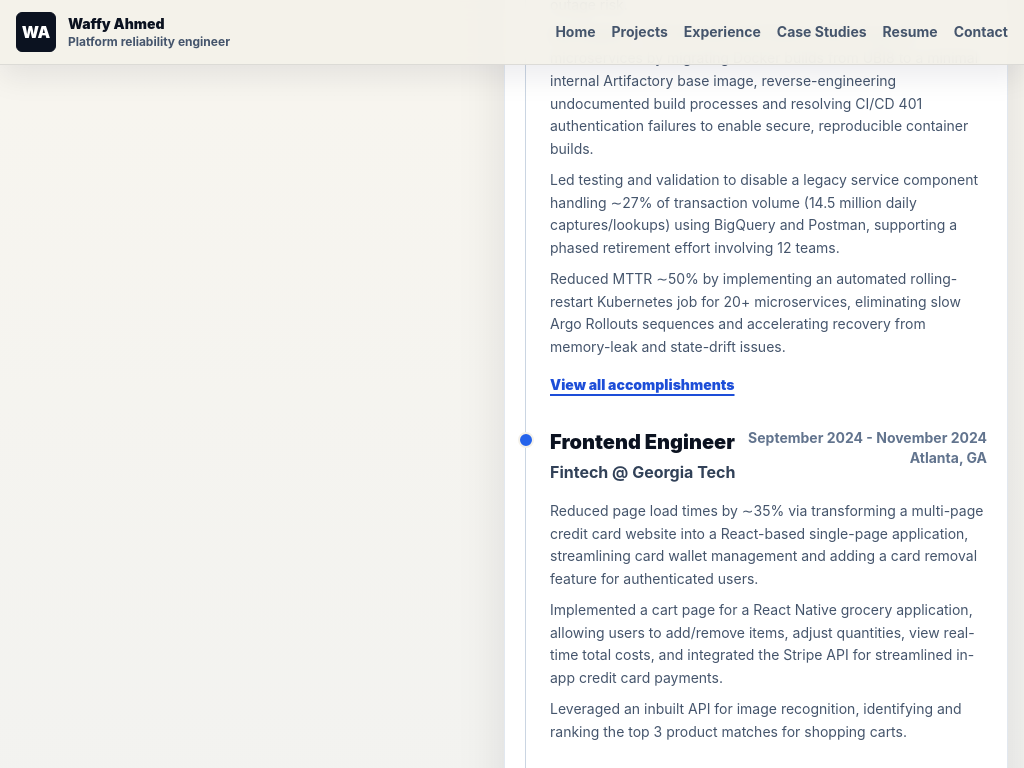
App routes › places Software Engineer I above Fintech and expands its full accomplishments
(page scrolled)
Click the button named "view all accomplishments for software engineer i at the home depot".
click(642, 385)  # box [550,375,734,395]
(page scrolled)
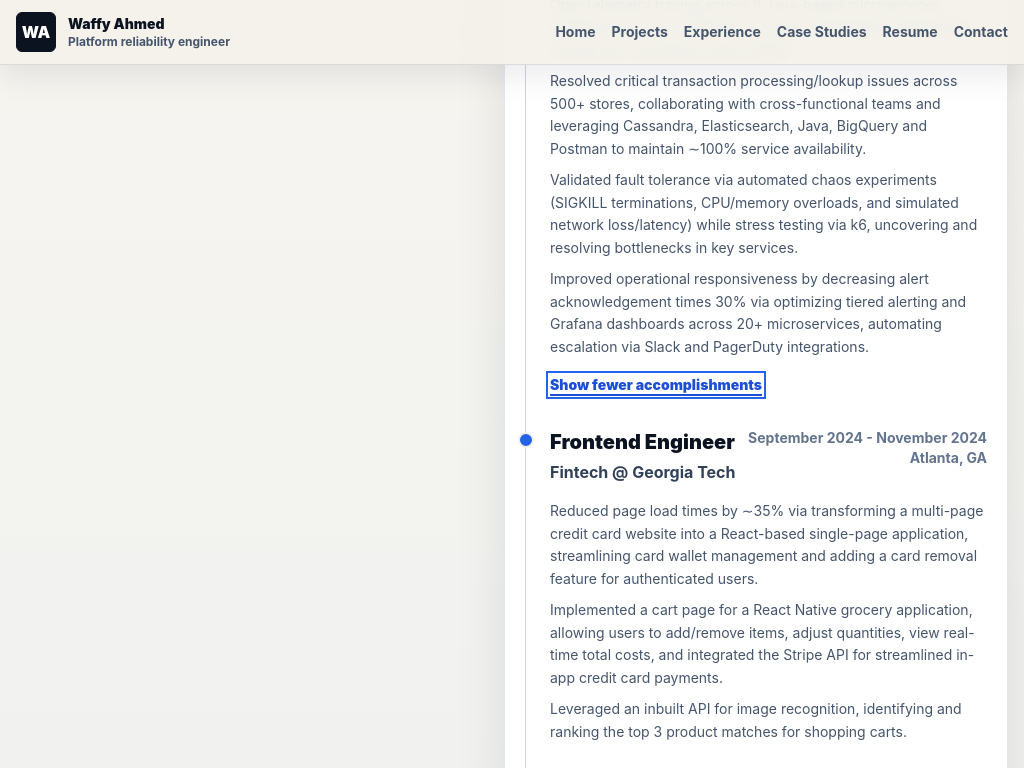
Expected: the button named "view all accomplishments for software engineer i at the home depot" is expanded
Expected: the button named "view all accomplishments for software engineer i at the home depot" reads "Show fewer accomplishments"
Click the button named "view all accomplishments for software engineer i at the home depot".
click(656, 385)  # box [550,375,762,395]
(page scrolled)
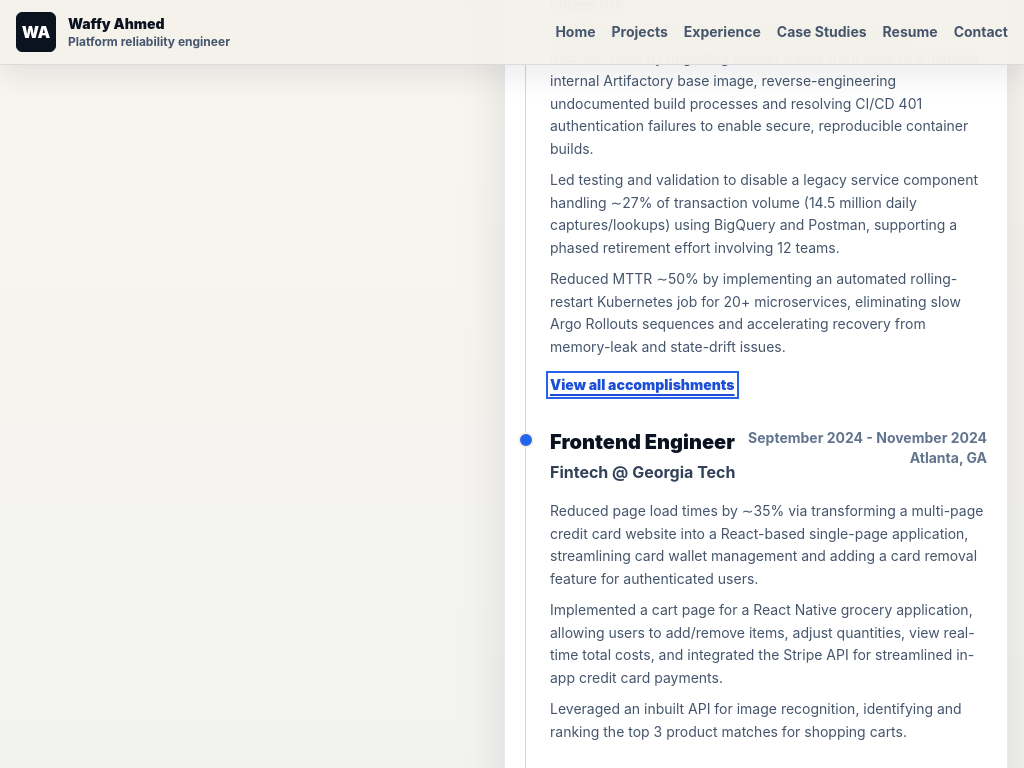
Expected: the button named "view all accomplishments for software engineer i at the home depot" is collapsed, [550,375,734,395]
